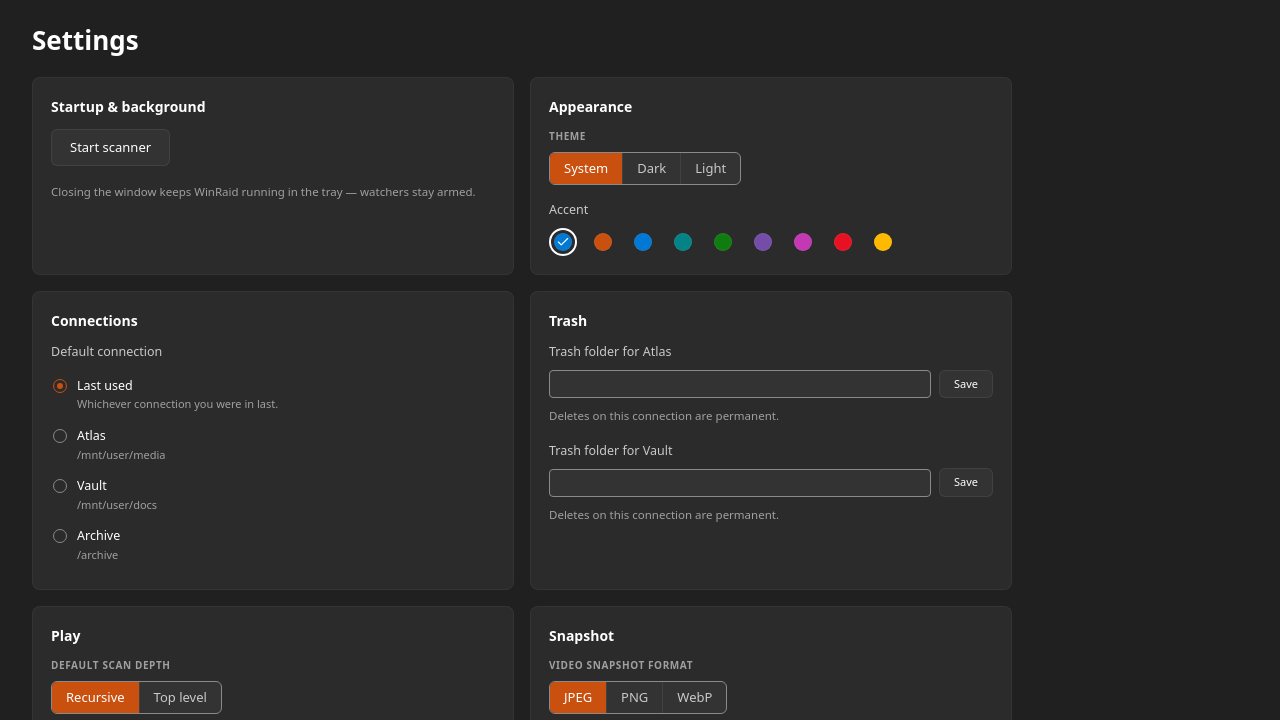
the per-connection trash setting › shows why a folder was refused and saves nothing
Type "/mnt/cache/trash" into the field labelled "Trash folder for Atlas".
click(740, 384); type("/mnt/cache/trash")  # box [549, 370, 931, 398]
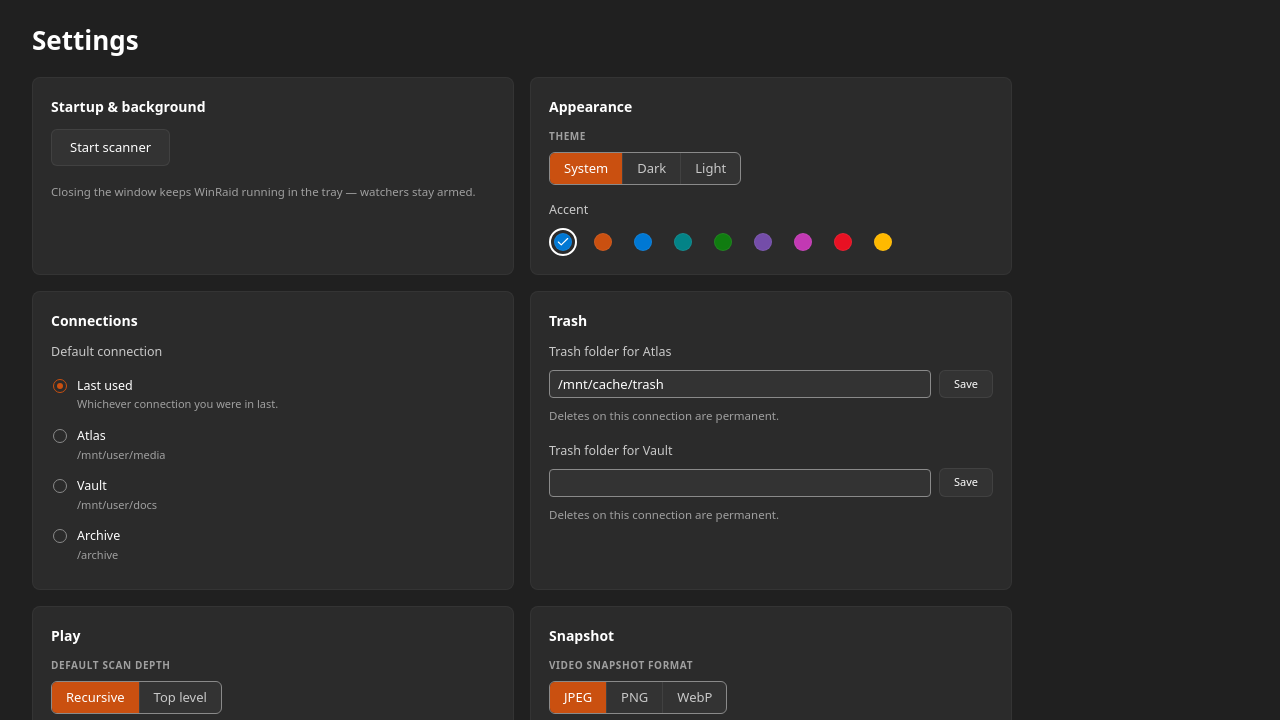
Click the button with aria-label "Save trash folder for Atlas".
click(966, 384)  # box [939, 370, 993, 398]
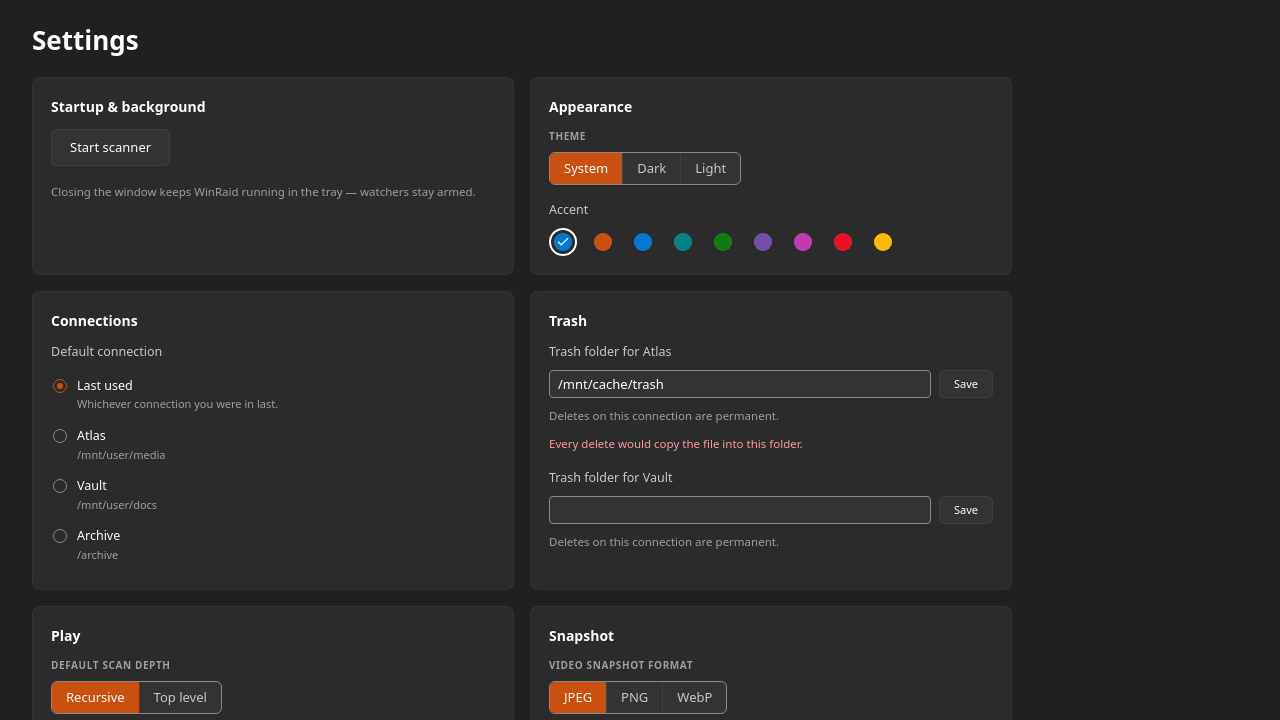
expect the message reads "Every delete would copy the file into this folder.": met, box [549, 436, 803, 450]
